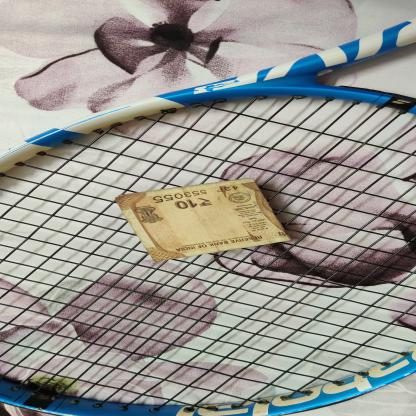New10Front: (114, 178, 295, 264)
